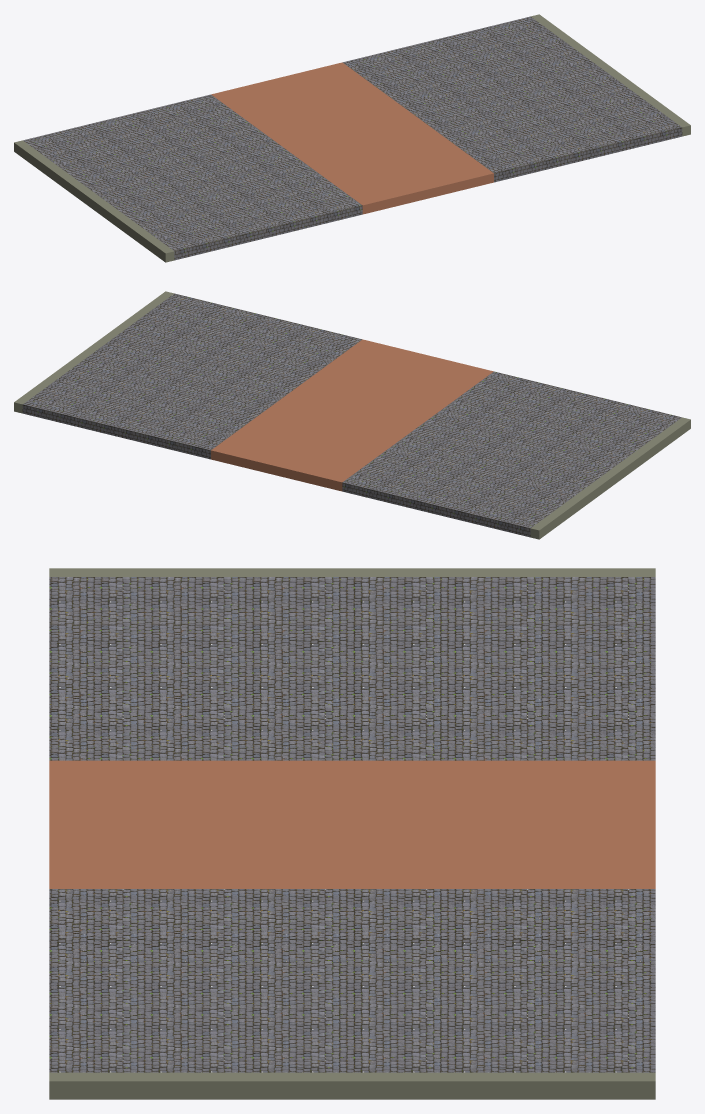
File: body.fbx
3 views of the same model, one above another, from view 1: azimuth 30°, elevation 25°; view 2: azimuth 150°, elevation 25°; view 3: azimuth 270°, elevation 25° (orthographic). The views are drawn at different scales.
Visible parts, largest first — view 1: body.013; view 2: body.013; view 3: body.013.
Part boxes in pixels (left/top/right/bottom): body.013: left=14, top=14, right=690, bottom=262; body.013: left=14, top=291, right=690, bottom=539; body.013: left=49, top=568, right=655, bottom=1099.
Size of the model in its own units: 12 by 0.2 by 6.
